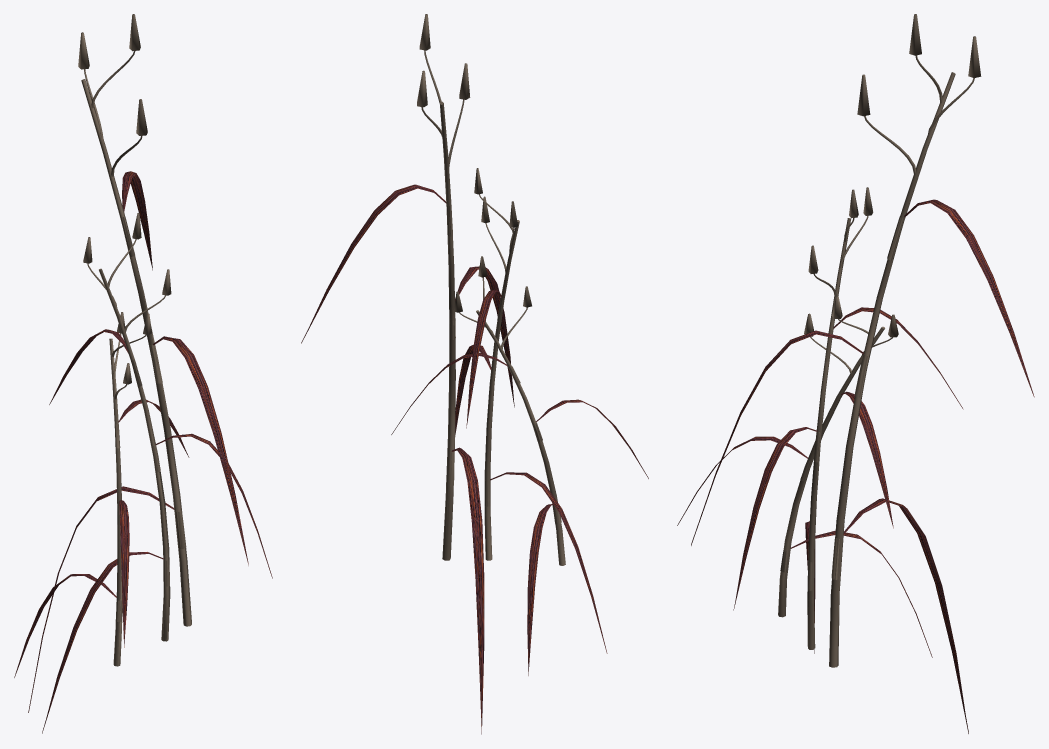
File: dryshoots_10.glb
3 renders of one model, left to right at view 1: azimuth 30°, elevation 25°; view 2: azimuth 150°, elevation 25°; view 3: azimuth 270°, elevation 25°, orthographic. The views are drawn at different scales.
Parts seen in each view (by area): view 1: export; view 2: export; view 3: export.
Boxes of the visible parts, left/top/right/bottom form: export: left=14, top=14, right=272, bottom=733; export: left=301, top=14, right=648, bottom=734; export: left=677, top=14, right=1034, bottom=733.
Size of the model in its own units: 0.5461 by 1.72 by 0.7281.
Materials: 2 (2 with a texture image).
